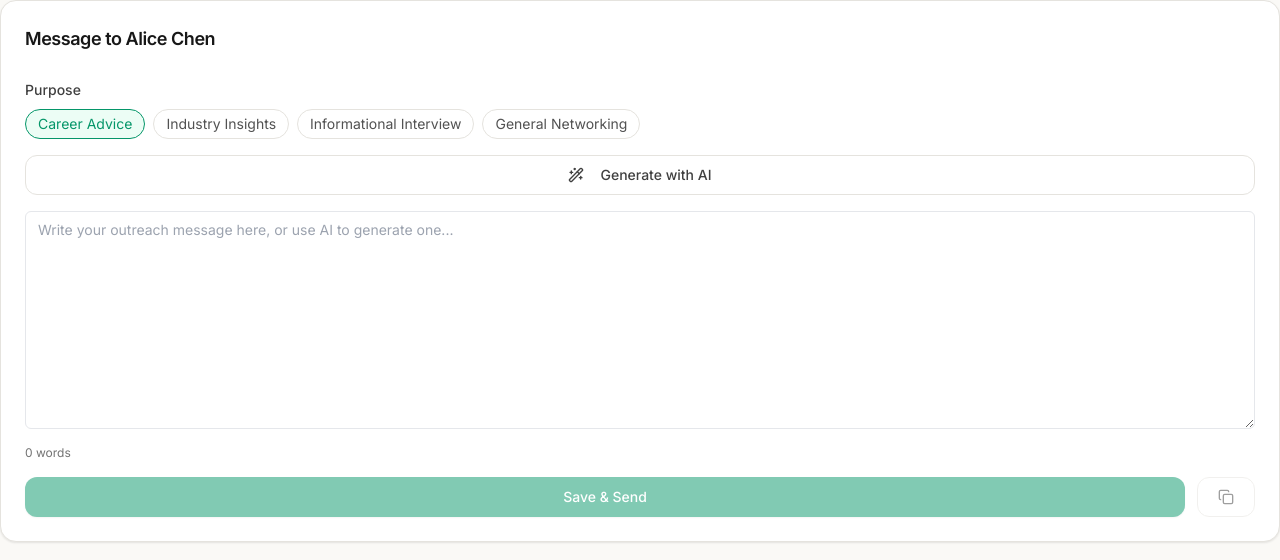
Scenario: MessageComposer › generates message via API when generate button is clicked
Click the button "Generate with AI".
click(640, 175)  # box x1=25 y1=155 x2=1255 y2=195
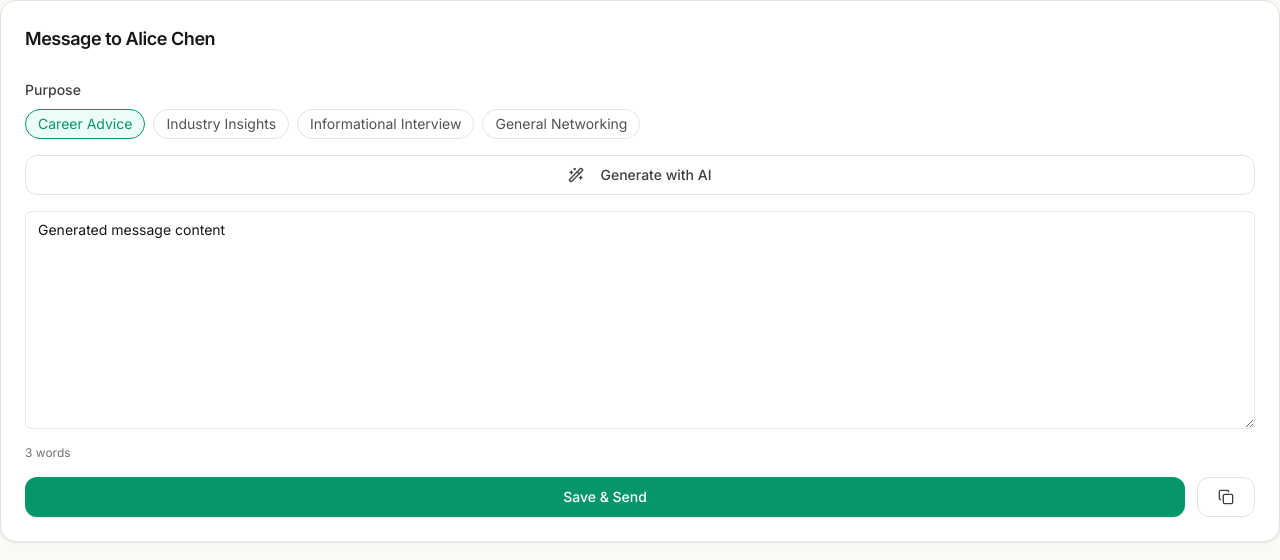
Expected: the text box with placeholder "Write your outreach" holds "Generated message content", x1=25 y1=211 x2=1255 y2=429
